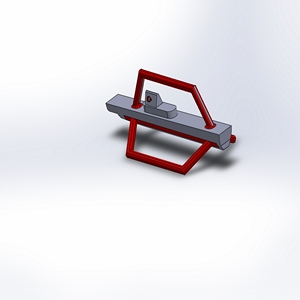submarine: (95, 68, 248, 186)
